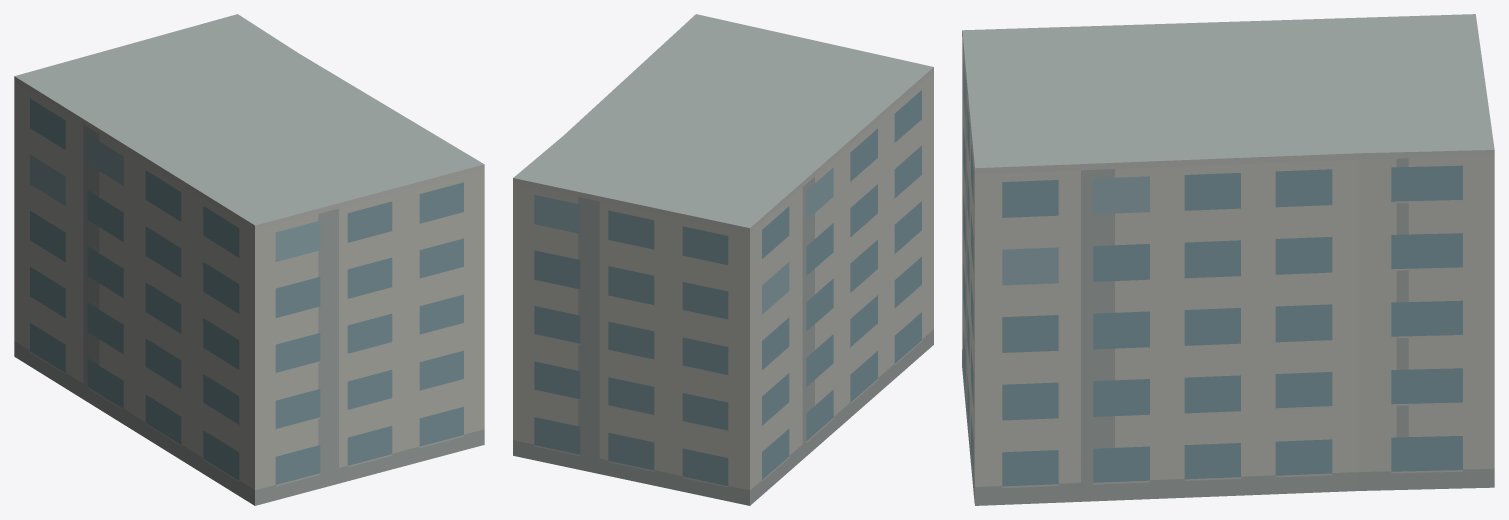
Rendered from survey-upis-32577426.glb.
3 renders of one model, left to right at view 1: azimuth 30°, elevation 25°; view 2: azimuth 150°, elevation 25°; view 3: azimuth 270°, elevation 25°, orthographic. The views are drawn at different scales.
Parts seen in each view (by area): view 1: survey-upis-32577426.tmp; view 2: survey-upis-32577426.tmp; view 3: survey-upis-32577426.tmp.
Part boxes in pixels (x1,y1,x2,y2): survey-upis-32577426.tmp: (14,14,484,505); survey-upis-32577426.tmp: (513,14,933,505); survey-upis-32577426.tmp: (962,14,1494,505).
Size of the model in its own units: 12.84 by 13.1 by 18.73.
